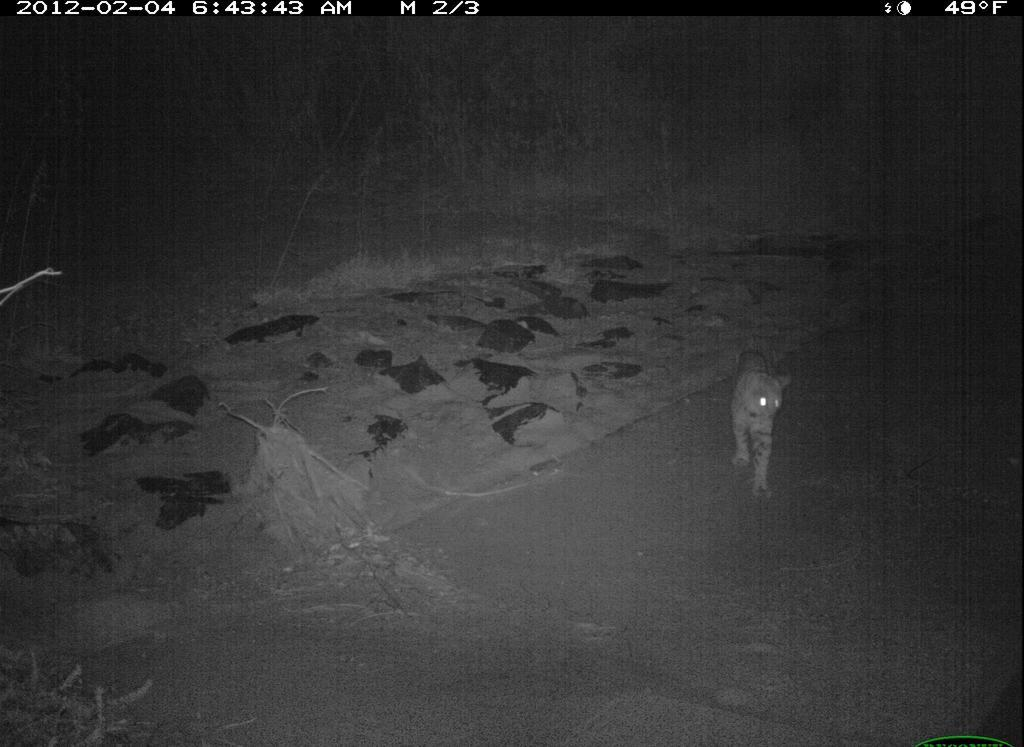bobcat: (710, 340, 821, 510)
